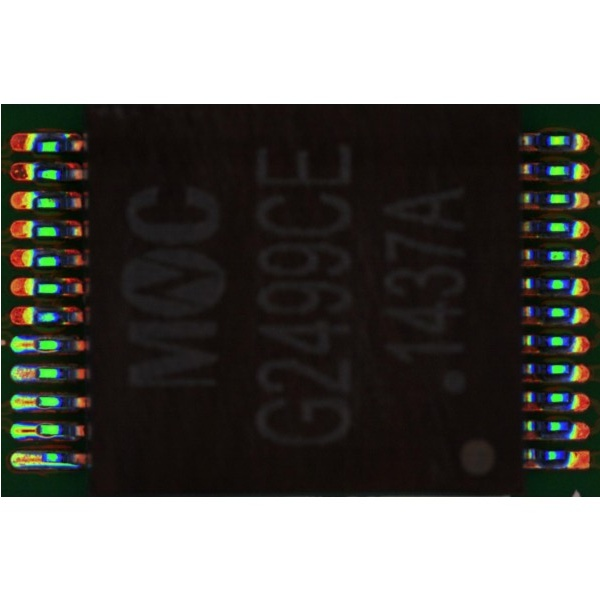Bad_podu: (26, 368, 42, 378), (25, 397, 42, 406), (27, 425, 44, 434), (32, 454, 49, 463), (26, 340, 42, 349)
Bad_qiaojiao: (39, 464, 78, 469), (41, 435, 72, 440)
